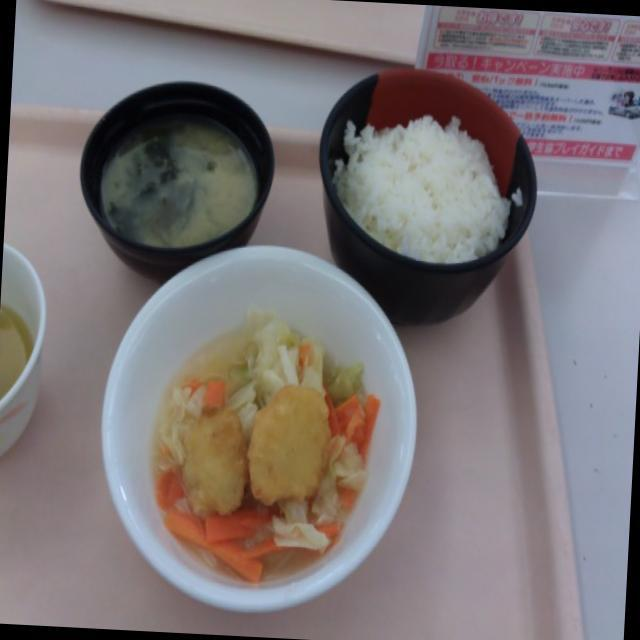Rice: (334, 90, 518, 264)
